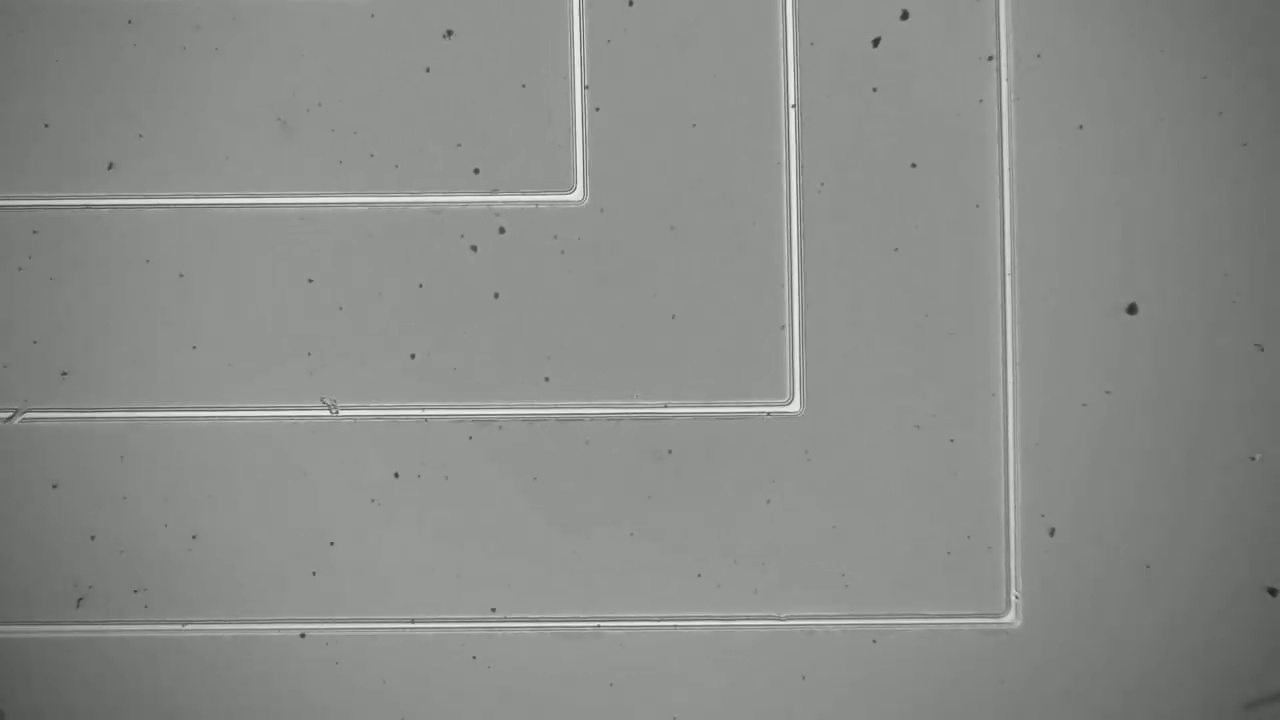open: (0, 397, 29, 433)
stains_enbedded: (308, 388, 353, 429)
